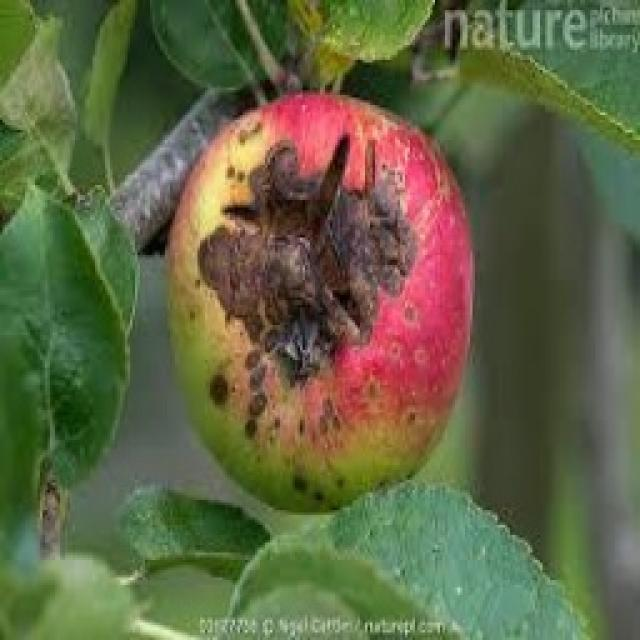defective: (162, 88, 475, 515)
